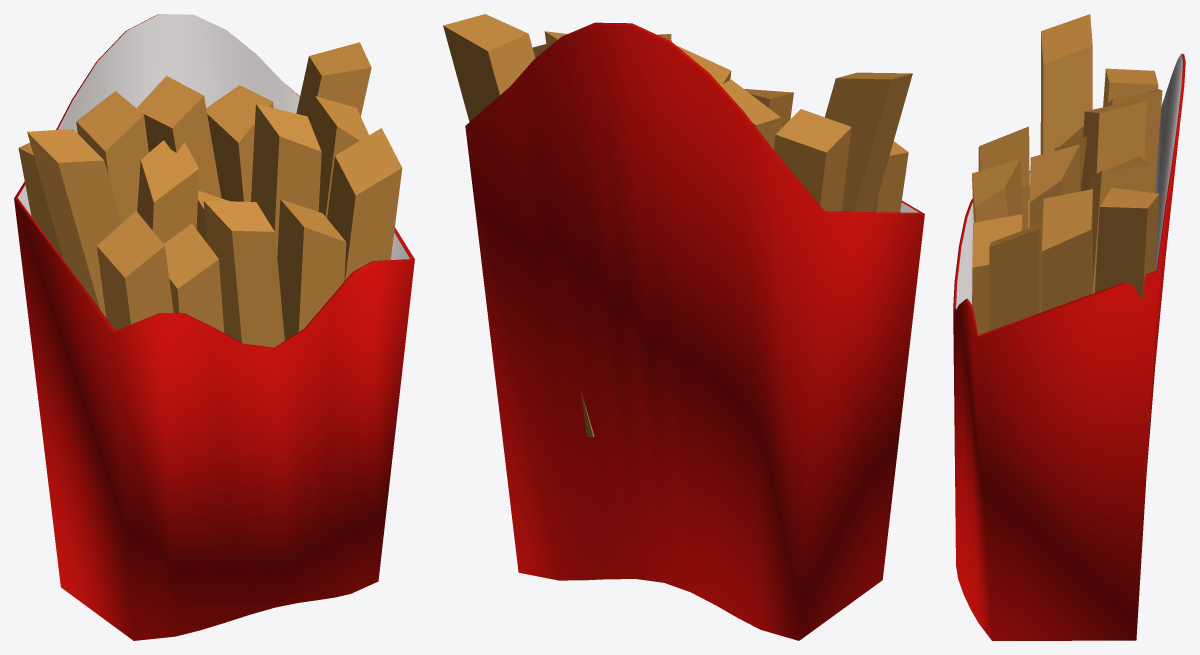
The model's file is Fries.fbx.
The picture shows the model from 3 angles, left to right: view 1: azimuth 30°, elevation 25°; view 2: azimuth 150°, elevation 25°; view 3: azimuth 270°, elevation 25°; orthographic projection. The views are drawn at different scales.
Visible parts, largest first — view 1: Carton, Fries, Fries.007, Fries.005, Fries.006, Fries.003, Fries.009, Fries.011, Fries.012, Fries.001, Fries.013, Fries.008 (+3 smaller); view 2: Carton, Fries, Fries.014, Fries.010, Fries.009, Fries.011, Fries.007; view 3: Carton, Fries, Fries.014, Fries.004, Fries.005, Fries.012, Fries.003, Fries.007, Fries.006, Fries.013, Fries.009, Fries.011 (+2 smaller).
Boxes of the visible parts, x1,y1,x2,y2 form: Carton: (14,14,414,640); Fries: (27,129,121,317); Fries.007: (203,200,284,347); Fries.005: (327,128,402,281); Fries.006: (277,199,346,340); Fries.003: (251,104,321,255); Fries.009: (97,211,173,330); Fries.011: (76,91,148,222); Fries.012: (136,75,221,198); Fries.001: (137,140,198,243); Fries.013: (206,85,273,201); Fries.008: (164,223,224,332); Carton: (465,22,924,640); Fries: (825,72,912,211); Fries.014: (443,14,594,437); Fries.010: (773,109,851,211); Fries.009: (873,141,908,212); Fries.011: (720,79,780,149); Fries.007: (744,89,793,127); Carton: (953,53,1185,640); Fries: (1040,14,1092,154); Fries.014: (1095,188,1159,299); Fries.004: (1041,189,1092,311); Fries.005: (989,224,1040,330); Fries.012: (1081,101,1146,191); Fries.003: (1029,144,1079,312); Fries.007: (972,159,1023,230); Fries.006: (972,214,1022,334); Fries.013: (1088,156,1150,293); Fries.009: (978,126,1029,188); Fries.011: (1108,89,1162,192).
Size of the model in its own units: 18.03 by 25.07 by 10.15.
16 materials, 16 textured.
